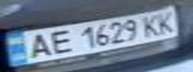1: (75, 24, 96, 49)
2: (109, 19, 127, 46)
6: (93, 20, 112, 48)
9: (121, 17, 145, 43)
A: (21, 30, 57, 60)
E: (42, 27, 75, 55)
K: (151, 9, 181, 35), (139, 12, 166, 38)
